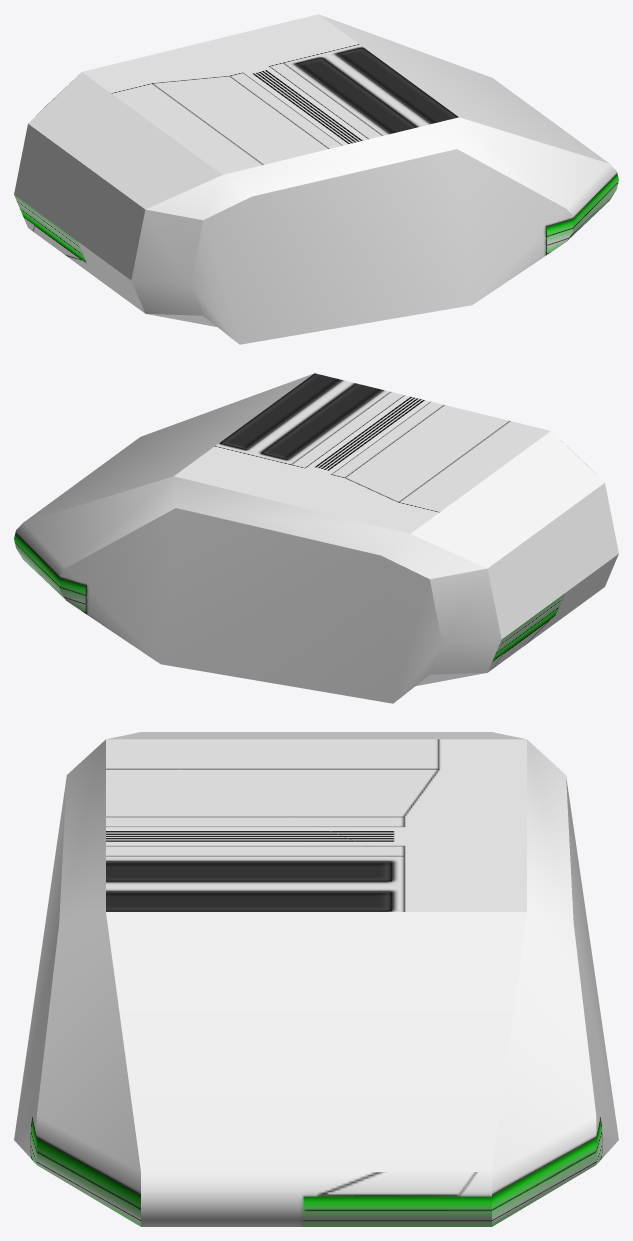
Rendered from multi_left_boot.obj.
3 views of the same model, one above another, from view 1: azimuth 30°, elevation 25°; view 2: azimuth 150°, elevation 25°; view 3: azimuth 270°, elevation 25° (orthographic). The views are drawn at different scales.
Visible parts, largest first — view 1: left_Cube_Cube.000; view 2: left_Cube_Cube.000; view 3: left_Cube_Cube.000.
Part boxes in pixels (x1=…): left_Cube_Cube.000: x1=14, y1=14, x2=618, y2=344; left_Cube_Cube.000: x1=14, y1=373, x2=618, y2=703; left_Cube_Cube.000: x1=14, y1=732, x2=618, y2=1226.
Bounding box in the file's own units: 6.68 × 2.2 × 4.8.
